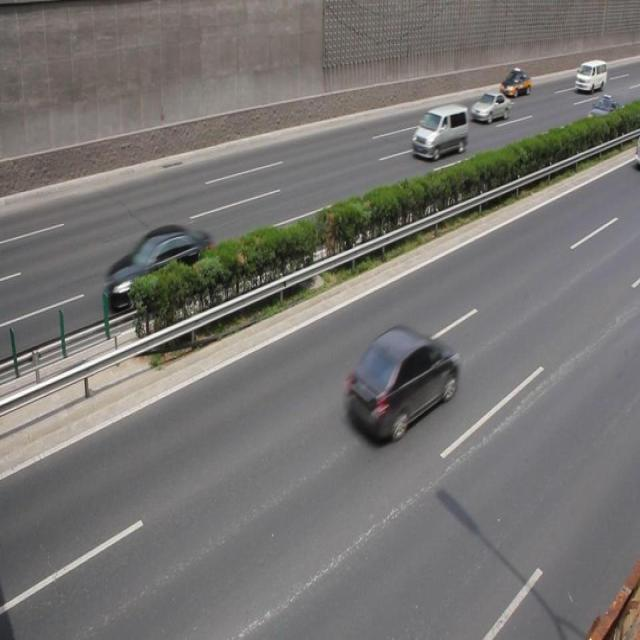car: (343, 327, 459, 445), (102, 222, 215, 318), (469, 89, 509, 123), (586, 95, 620, 131), (498, 68, 531, 99)
truck: (410, 103, 468, 159), (573, 58, 605, 94)
